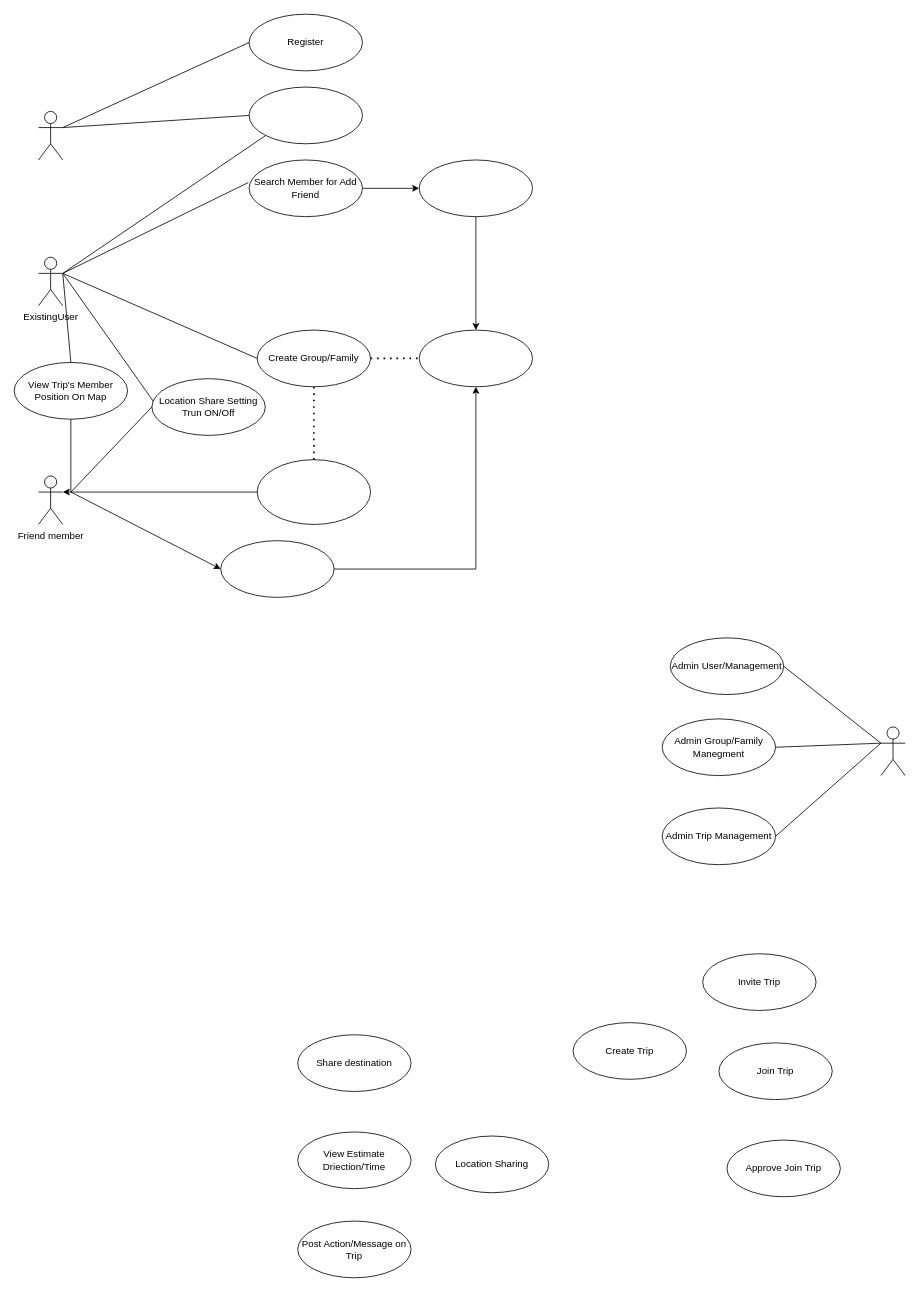
Image size: 921x1292. Some labels were removed from this diagram. The shapes that lost their labels are listed below. From the top down, each one's centre as x and y in pixels, then its label:
At pixel 50 135: "NewUser".
At pixel 305 115: "Login".
At pixel 475 188: "Add Friend".
At pixel 475 358: "Join Group".
At pixel 313 491: "Invite to Group".
At pixel 277 568: "Approve Join Group".
At pixel 892 751: "Admin".
